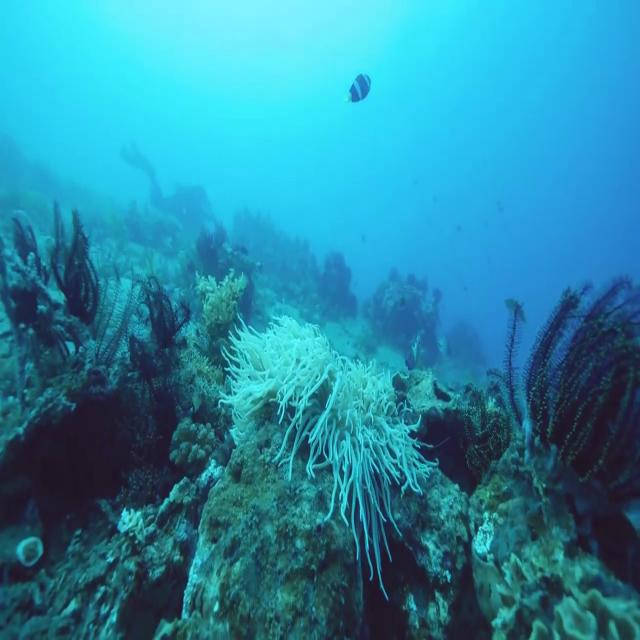fish: (343, 62, 377, 112)
